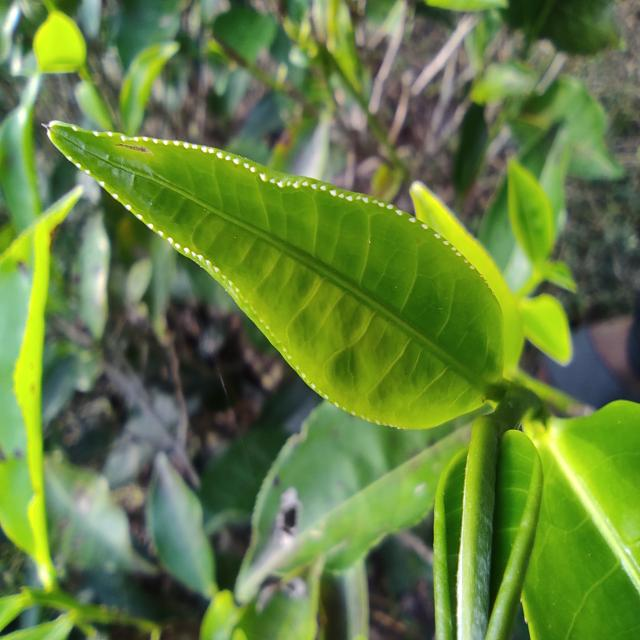Category B(2-4 days): (33, 90, 524, 443)
